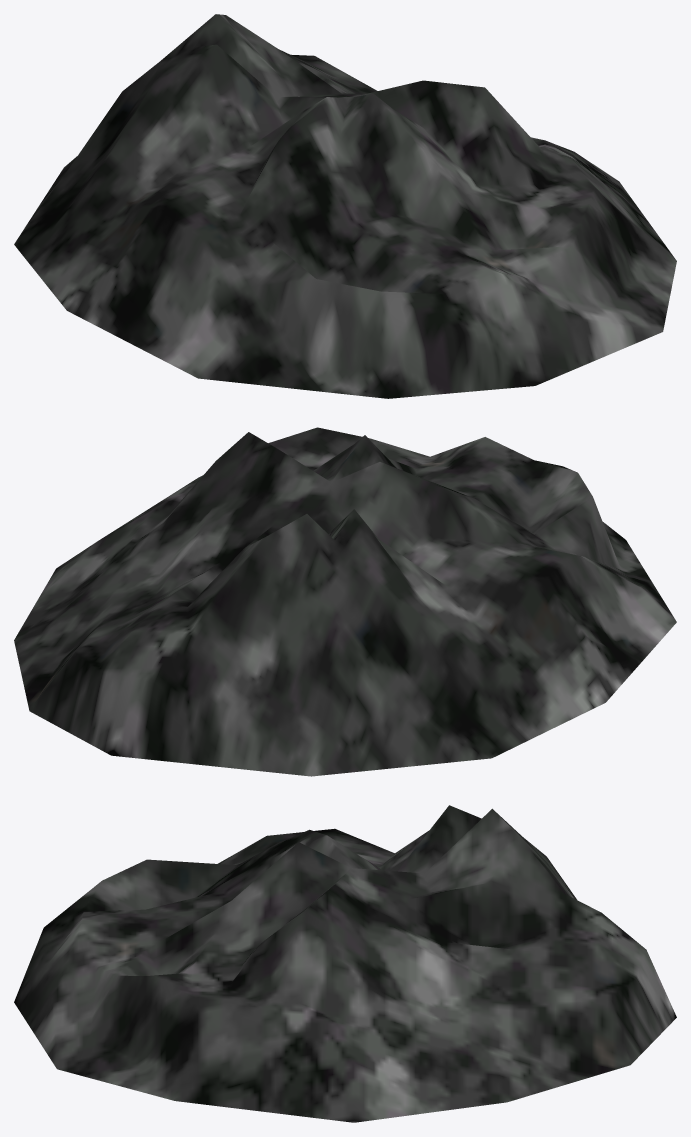
Rendered from INST_SWORDLIGHT_OREA.fbx.
3 views of the same model, one above another, from view 1: azimuth 30°, elevation 25°; view 2: azimuth 150°, elevation 25°; view 3: azimuth 270°, elevation 25° (orthographic). The views are drawn at different scales.
Visible parts, largest first — view 1: INST_SWORDLIGHT_OREA; view 2: INST_SWORDLIGHT_OREA; view 3: INST_SWORDLIGHT_OREA.
Part boxes in pixels (x1,y1,x2,y2): INST_SWORDLIGHT_OREA: [14, 14, 676, 398]; INST_SWORDLIGHT_OREA: [14, 427, 676, 776]; INST_SWORDLIGHT_OREA: [14, 805, 676, 1122].
Bounding box in the file's own units: 12161 × 4032 × 14155.
Materials: 1 (1 with a texture image).
